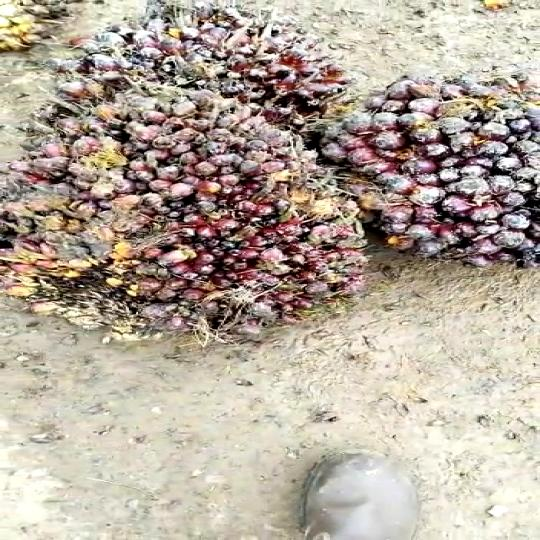kurang masak: (1, 90, 354, 338), (310, 66, 540, 270)
